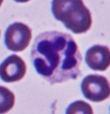N: (30, 31, 81, 84)
